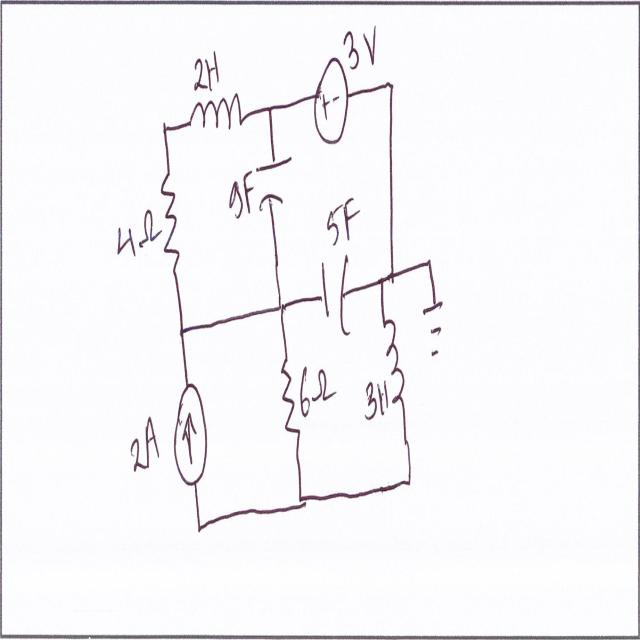capacitor: (316, 245, 356, 343), (252, 150, 296, 212)
current_source: (170, 375, 213, 492)
ground: (422, 300, 449, 368)
inductor: (382, 309, 418, 413), (189, 92, 243, 142)
resistor: (159, 160, 184, 276), (276, 350, 301, 441)
voltage_source: (312, 49, 350, 153)
